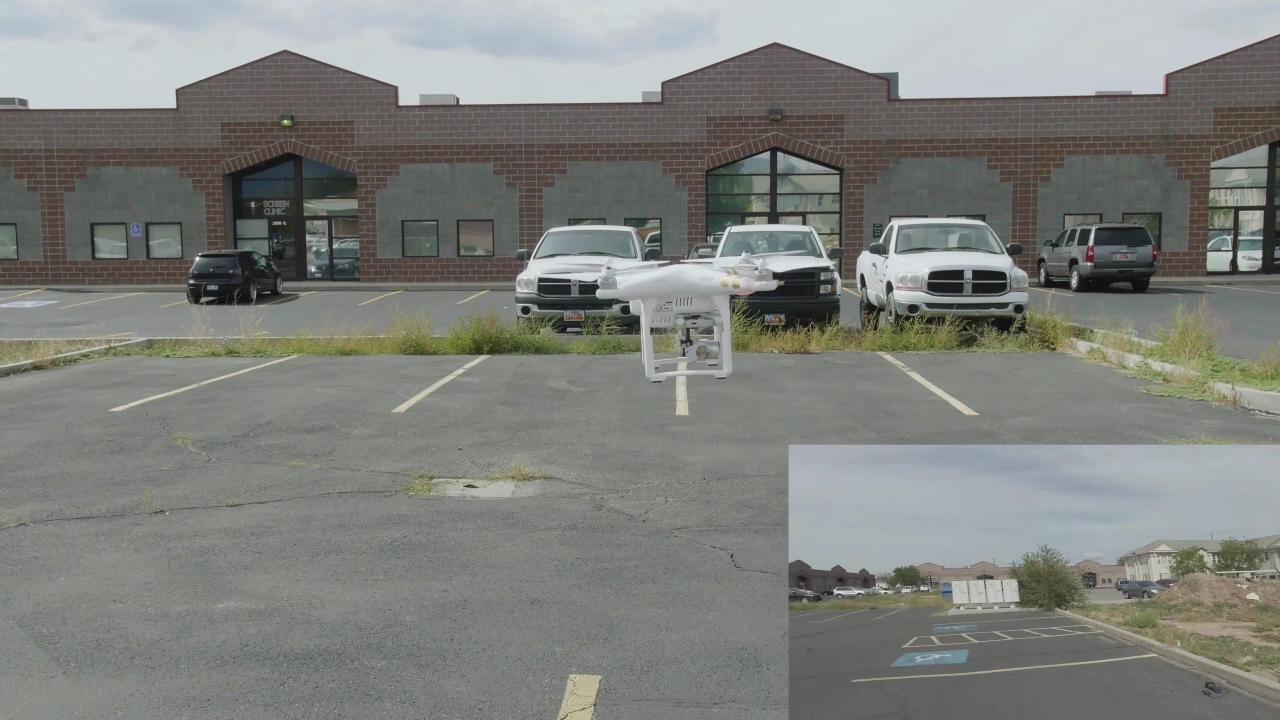Drone: (541, 248, 805, 388)
